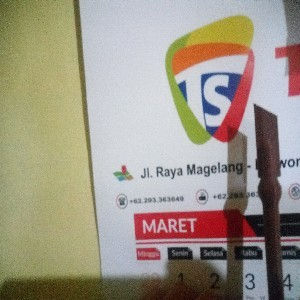cutter: (252, 101, 285, 300)
